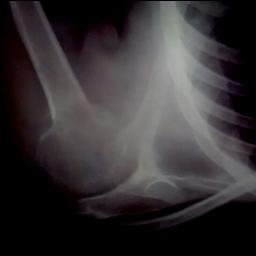cancer: (36, 123, 129, 188)
